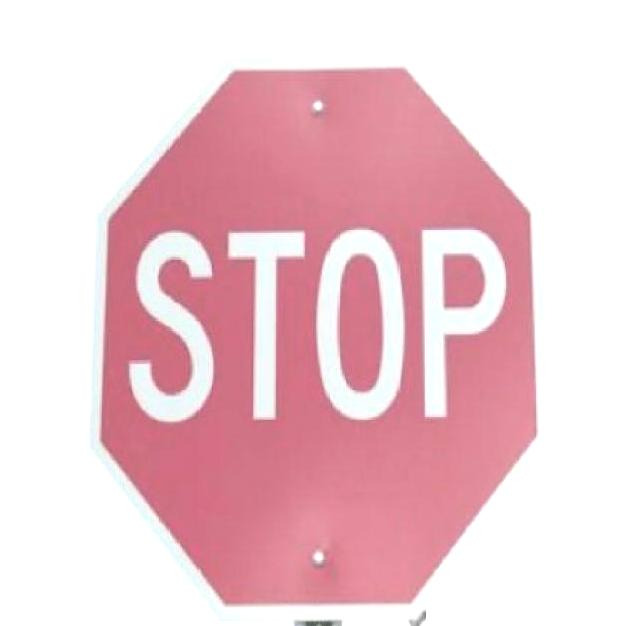stop_sign: (80, 47, 552, 620)
